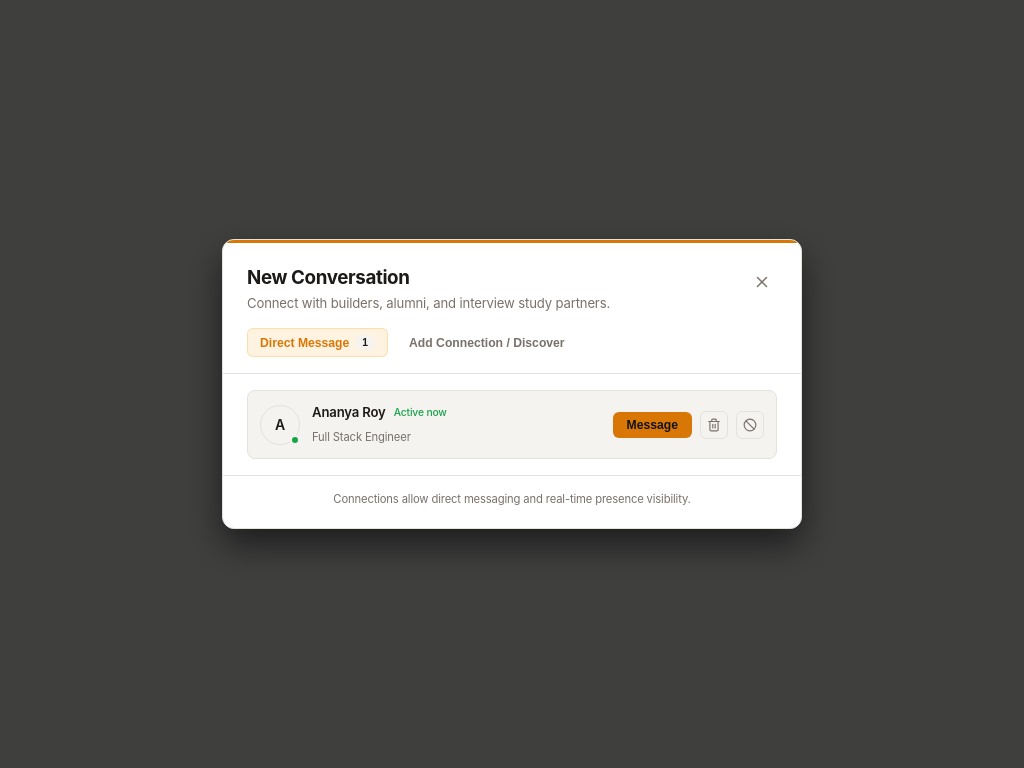
Test: NewChatModalComponent › should switch between Direct Message and Add Connection tabs
This screenshot has width=1024, height=768.
Step 1. Click the tab with test id "tab-connect-btn" → (487, 343), box [396,328,578,357]
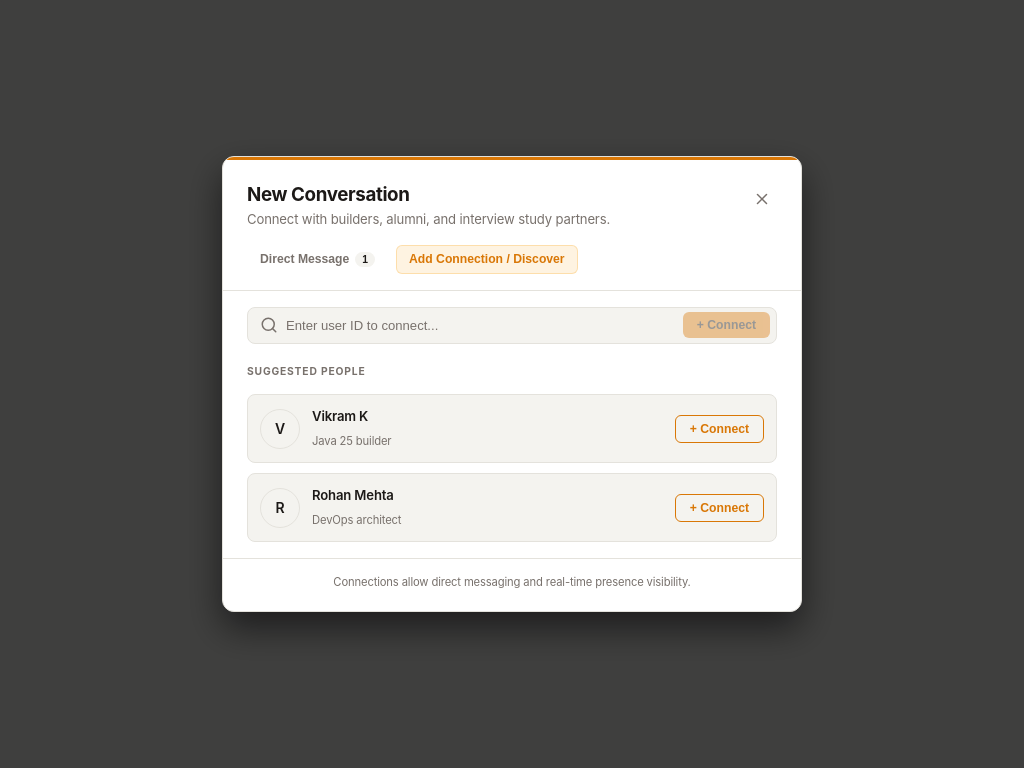
Expected: the element with test id "connect-tab-content" is shown, [223,307,801,542]
Step 2. Click the tab with test id "tab-contacts-btn" → (318, 259), box [247,245,388,274]
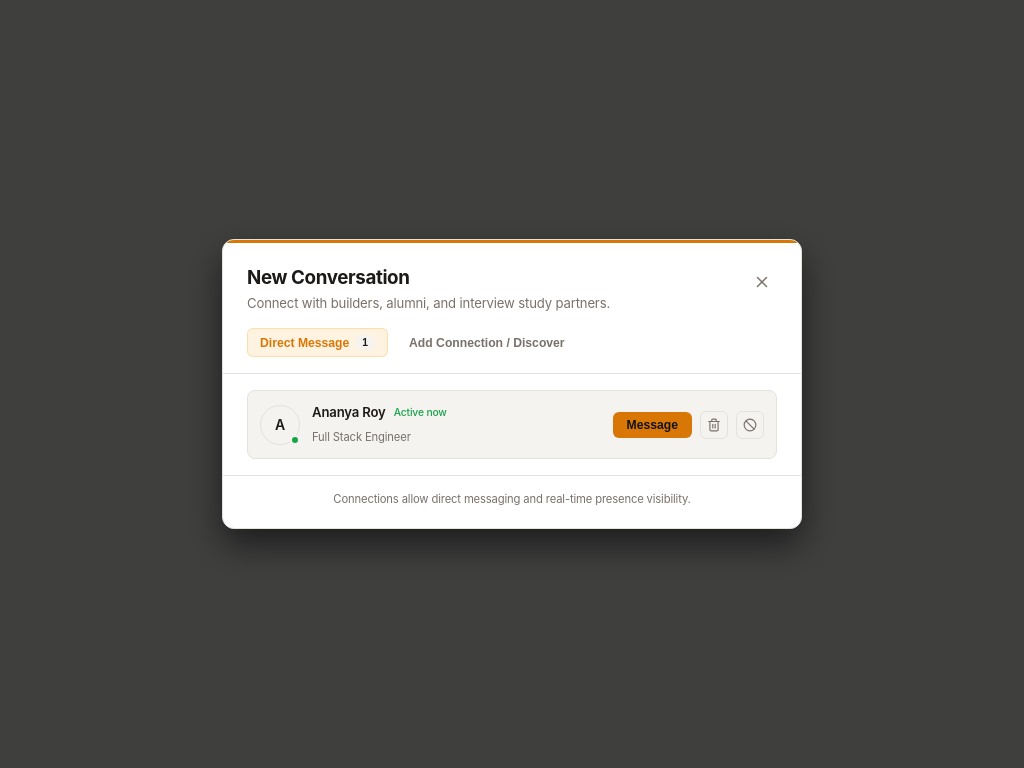
Expected: the element with test id "contacts-tab-content" is shown, [223,390,801,459]
